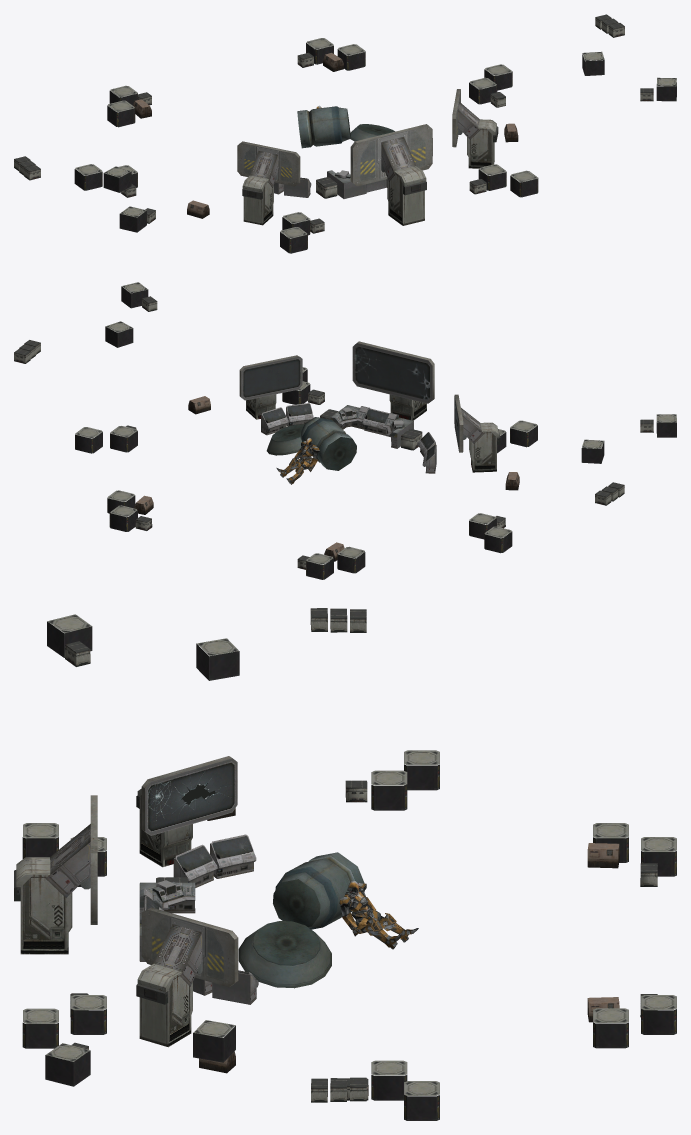
File: Building_JzDaoju_2048_lod2.glb
3 views of the same model, one above another, from view 1: azimuth 30°, elevation 25°; view 2: azimuth 150°, elevation 25°; view 3: azimuth 270°, elevation 25° (orthographic). The views are drawn at different scales.
Visible parts, largest first — view 1: saibt_jz_daoju_lod2; view 2: saibt_jz_daoju_lod2; view 3: saibt_jz_daoju_lod2.
Part boxes in pixels (box(x1,y1,x2,y2)): saibt_jz_daoju_lod2: box(14, 14, 676, 253); saibt_jz_daoju_lod2: box(14, 282, 676, 579); saibt_jz_daoju_lod2: box(14, 608, 676, 1120).
Bounding box in the file's own units: 93.58 × 11.18 × 54.62.
Materials: 1 (1 with a texture image).
